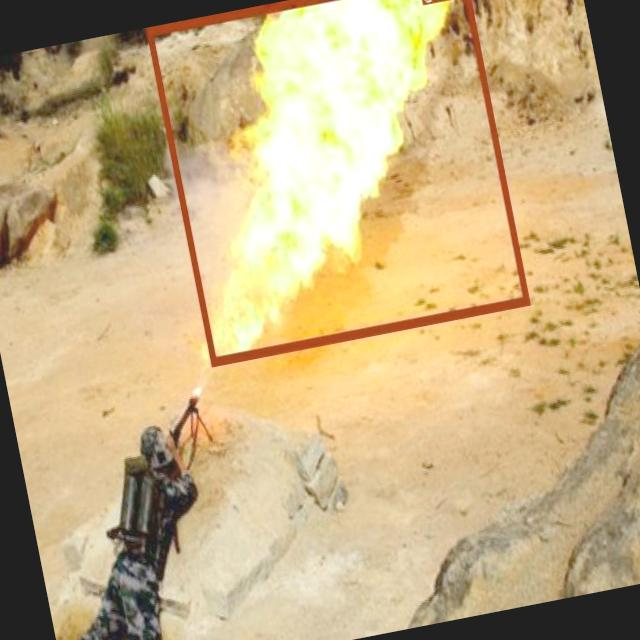fire: (147, 0, 530, 363)
